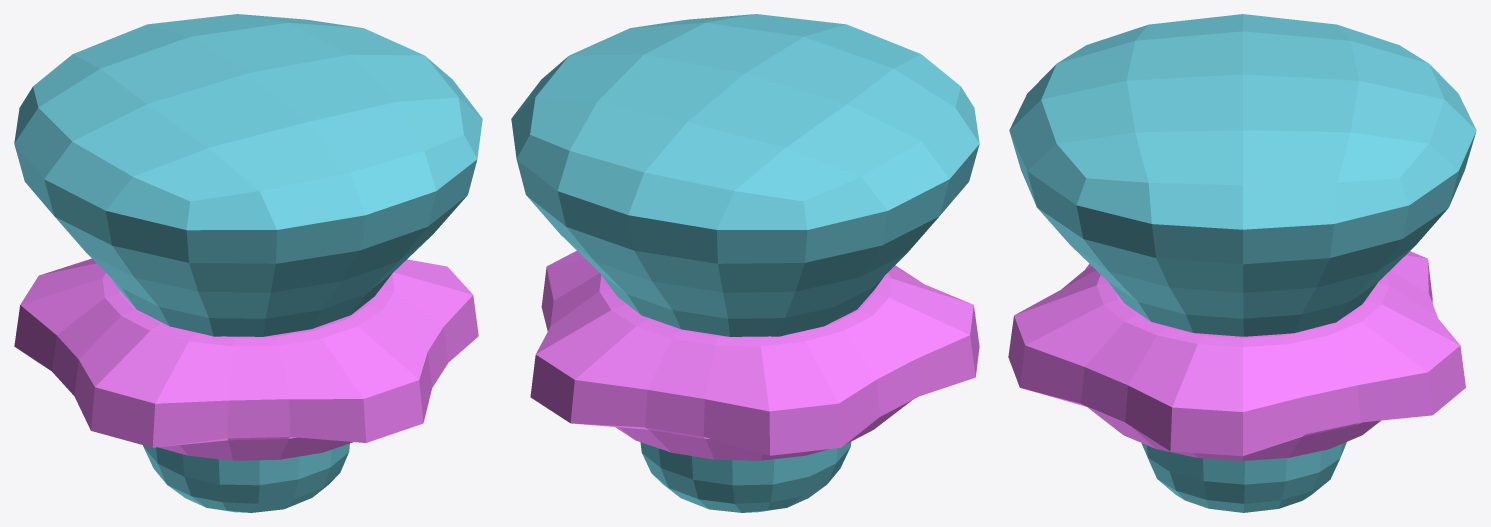
Rendered from StaminaStredbb.fbx.
3 views of the same model, side by side, from view 1: azimuth 30°, elevation 25°; view 2: azimuth 150°, elevation 25°; view 3: azimuth 270°, elevation 25° (orthographic).
Parts seen in each view (by area): view 1: Tělo.002, střed; view 2: Tělo.002, střed; view 3: Tělo.002, střed.
Boxes of the visible parts, left/top/right/bottom form: Tělo.002: left=14, top=14, right=482, bottom=512; střed: left=14, top=258, right=478, bottom=460; Tělo.002: left=511, top=14, right=979, bottom=512; střed: left=530, top=250, right=979, bottom=460; Tělo.002: left=1009, top=14, right=1476, bottom=512; střed: left=1008, top=251, right=1465, bottom=460.
Size of the model in its own units: 3.45 by 3.46 by 3.43.
